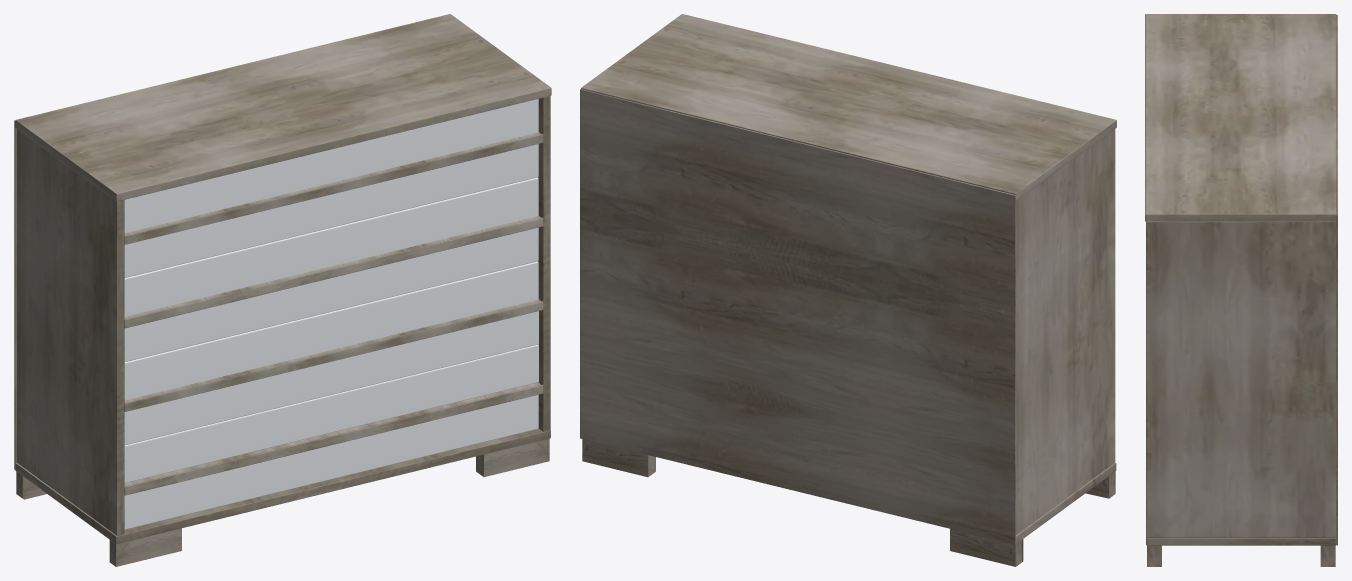
The model's file is abo-B07GFFKRXS.glb.
The picture shows the model from 3 angles, left to right: view 1: azimuth 30°, elevation 25°; view 2: azimuth 150°, elevation 25°; view 3: azimuth 270°, elevation 25°; orthographic projection. The views are drawn at different scales.
Size of the model in its own units: 0.994 by 0.816 by 0.404.
Materials: 1 (1 with a texture image).
